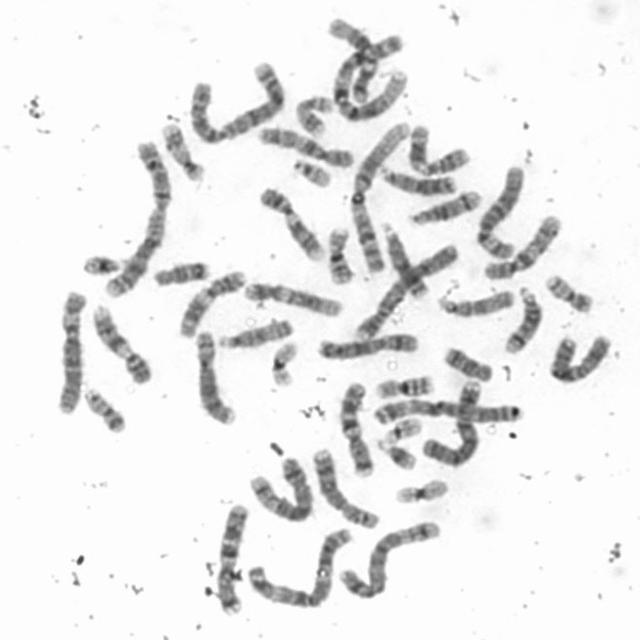A1: (345, 118, 412, 273), (329, 27, 408, 124)
A2: (100, 136, 172, 300), (184, 57, 287, 147)
A3: (244, 523, 356, 611), (370, 396, 527, 429)
B4: (350, 240, 460, 342), (419, 376, 485, 467)
B5: (337, 516, 446, 600), (246, 452, 315, 524)
C10: (481, 211, 564, 282), (254, 124, 356, 170)
C11: (174, 266, 248, 339), (403, 122, 472, 178)
C12: (324, 16, 381, 105), (242, 278, 344, 319)
C6: (472, 162, 526, 260), (50, 284, 88, 416)
C7: (213, 498, 250, 616), (336, 377, 376, 479)
C8: (308, 445, 382, 531), (192, 327, 238, 428)
C9: (255, 184, 326, 264), (89, 300, 153, 386)
D13: (376, 216, 430, 302), (376, 163, 458, 197)
D14: (406, 186, 483, 228), (500, 283, 543, 355)
D15: (214, 314, 294, 350), (434, 284, 516, 318)
E16: (323, 223, 355, 285), (373, 372, 436, 402)
E17: (158, 119, 206, 183), (292, 92, 336, 138)
E18: (440, 342, 494, 384), (150, 256, 210, 288)
F19: (391, 474, 451, 505), (266, 338, 301, 388)
F20: (81, 384, 128, 434), (542, 270, 595, 314)
G21: (374, 436, 419, 473), (80, 249, 124, 278)
G22: (375, 413, 424, 449), (288, 154, 334, 190)
X: (544, 330, 614, 384), (312, 330, 420, 363)
